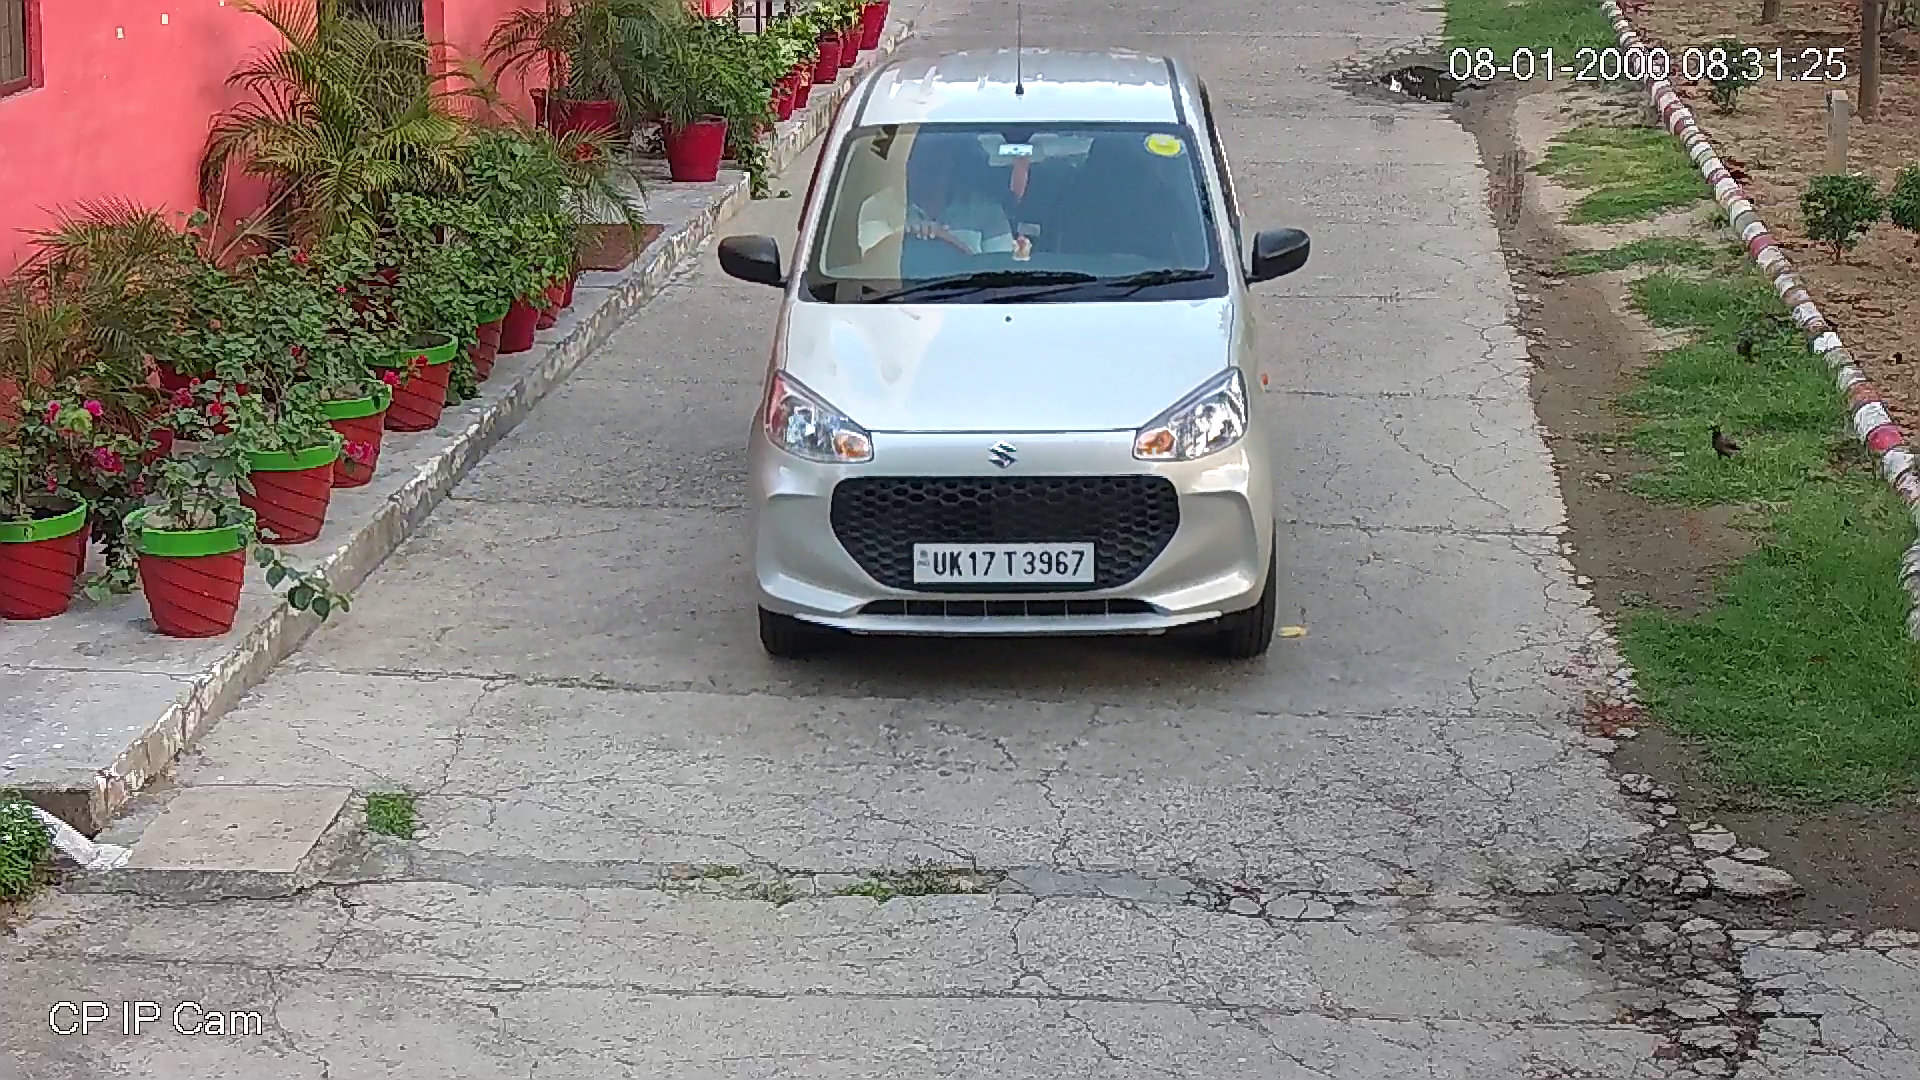plate: (904, 537, 1102, 584)
